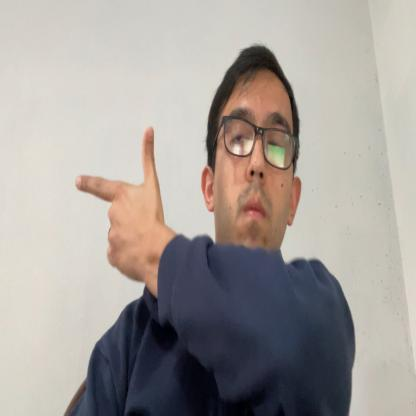G: (75, 126, 161, 282)
